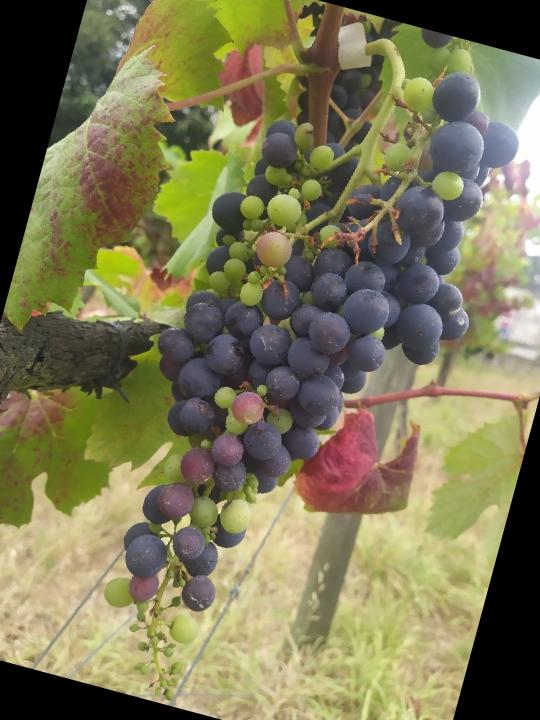grape: (70, 14, 531, 720)
